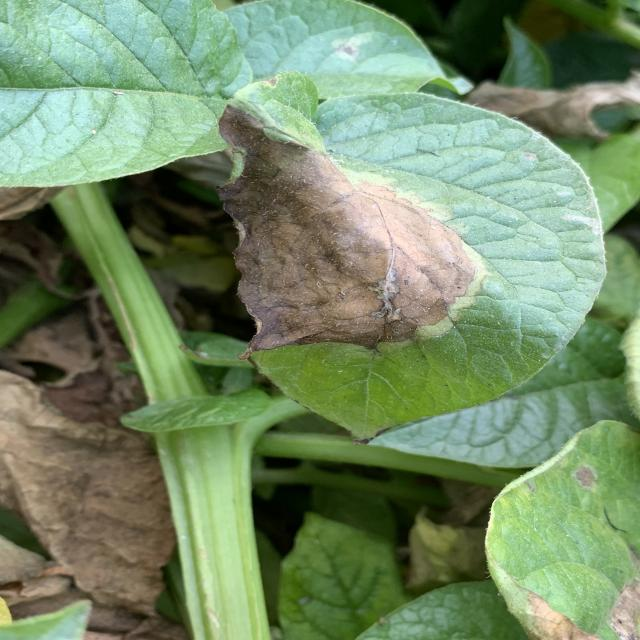lateblight: (220, 98, 477, 352)
